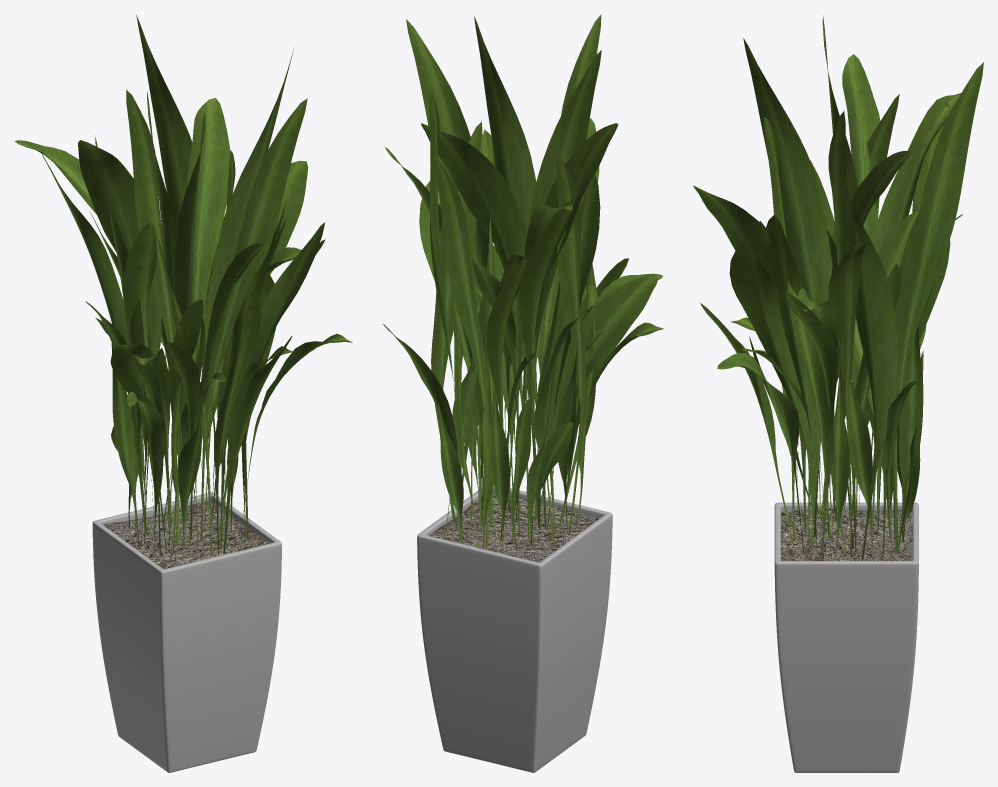
Rendered from plant3.glb.
The picture shows the model from 3 angles, left to right: view 1: azimuth 30°, elevation 25°; view 2: azimuth 150°, elevation 25°; view 3: azimuth 270°, elevation 25°; orthographic projection. The views are drawn at different scales.
Visible parts, largest first — view 1: Mesh3_grt_0, Mesh1_M_06___Defaultdsa_0, Mesh2_TEXTURE1_0; view 2: Mesh3_grt_0, Mesh1_M_06___Defaultdsa_0, Mesh2_TEXTURE1_0; view 3: Mesh3_grt_0, Mesh1_M_06___Defaultdsa_0, Mesh2_TEXTURE1_0.
Boxes of the visible parts, x1=… form: Mesh3_grt_0: x1=14, y1=15, x2=352, y2=558; Mesh1_M_06___Defaultdsa_0: x1=92, y1=492, x2=281, y2=772; Mesh2_TEXTURE1_0: x1=103, y1=501, x2=270, y2=568; Mesh3_grt_0: x1=383, y1=14, x2=663, y2=552; Mesh1_M_06___Defaultdsa_0: x1=417, y1=485, x2=612, y2=772; Mesh2_TEXTURE1_0: x1=429, y1=491, x2=598, y2=562; Mesh3_grt_0: x1=693, y1=15, x2=983, y2=560; Mesh1_M_06___Defaultdsa_0: x1=774, y1=502, x2=918, y2=772; Mesh2_TEXTURE1_0: x1=781, y1=508, x2=912, y2=560.
Size of the model in its own units: 0.942 by 2.6 by 0.9765.
3 materials, 2 textured.
